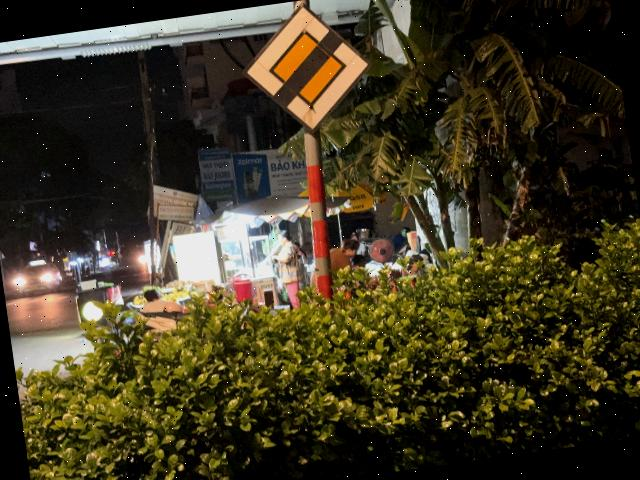het-duong-uu-tien: (234, 0, 381, 143)
